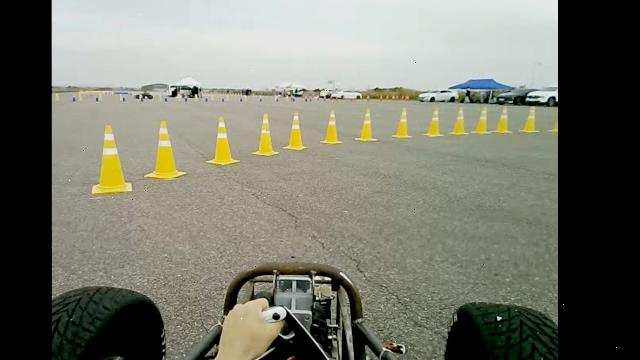yellow cone: (91, 124, 132, 194), (144, 120, 187, 180), (206, 115, 241, 166), (251, 112, 280, 156), (283, 110, 308, 150), (319, 108, 344, 144), (355, 108, 378, 142), (491, 104, 513, 134), (392, 107, 413, 138), (423, 106, 444, 137), (448, 106, 469, 135), (518, 106, 540, 133), (471, 105, 491, 134)
